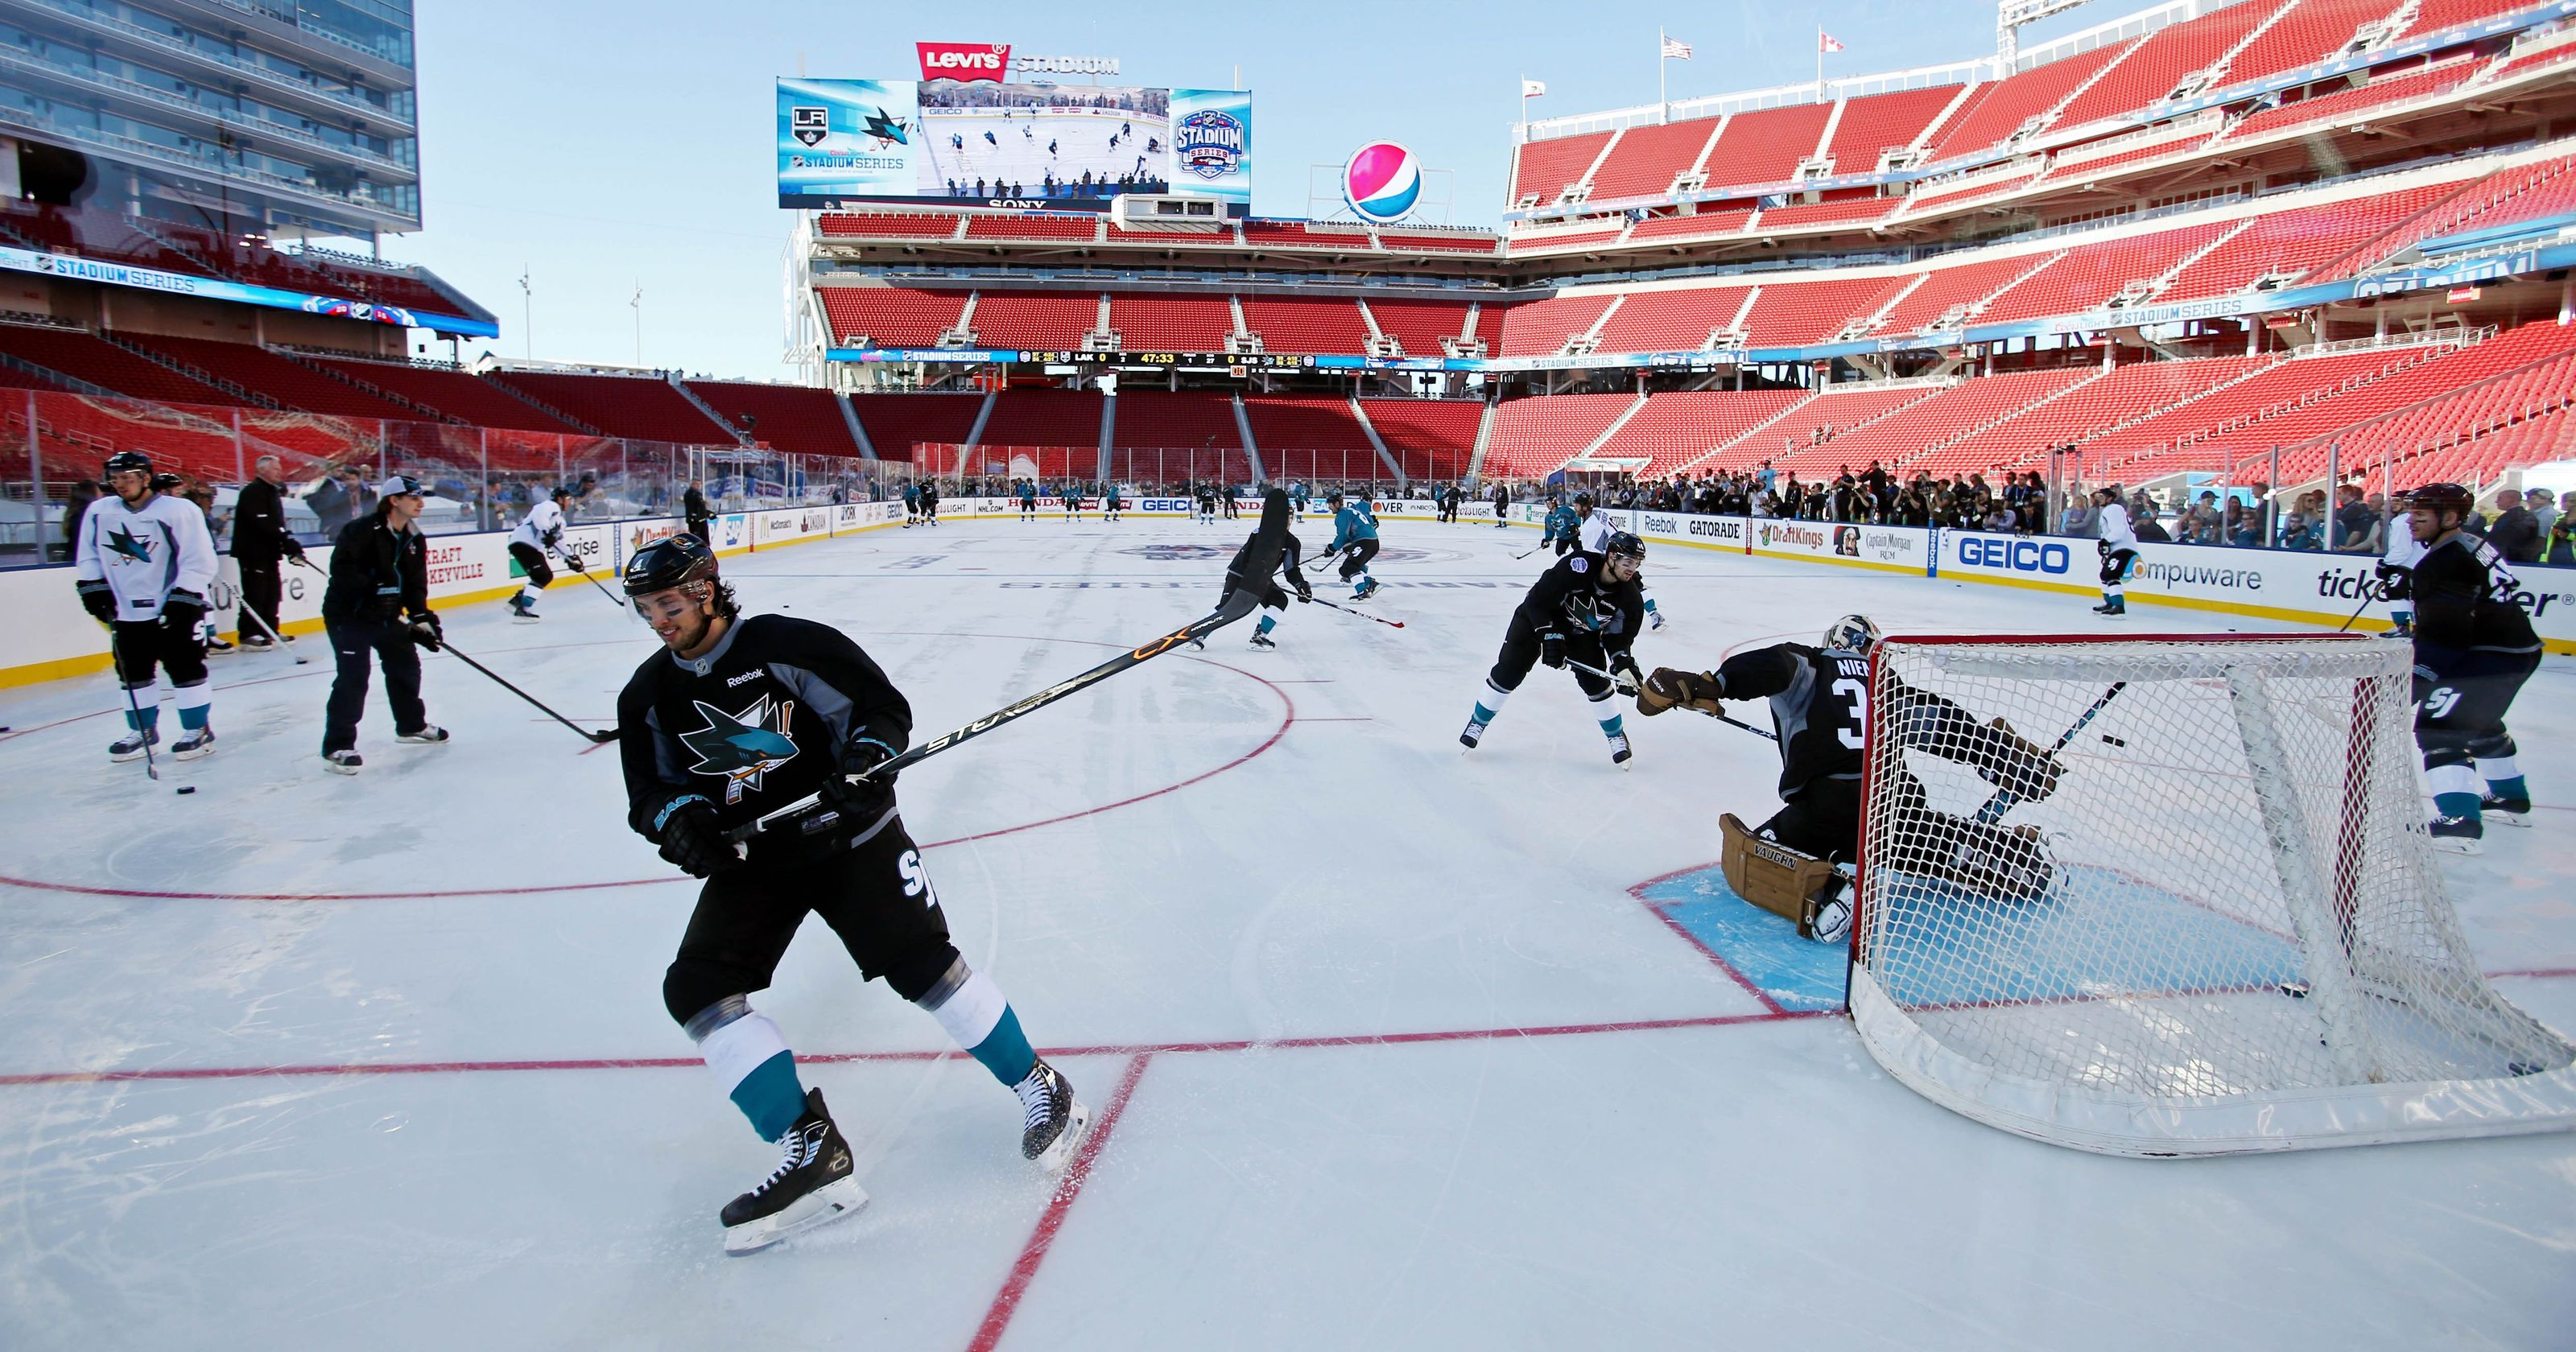Geico: (1949, 526, 2079, 581)
